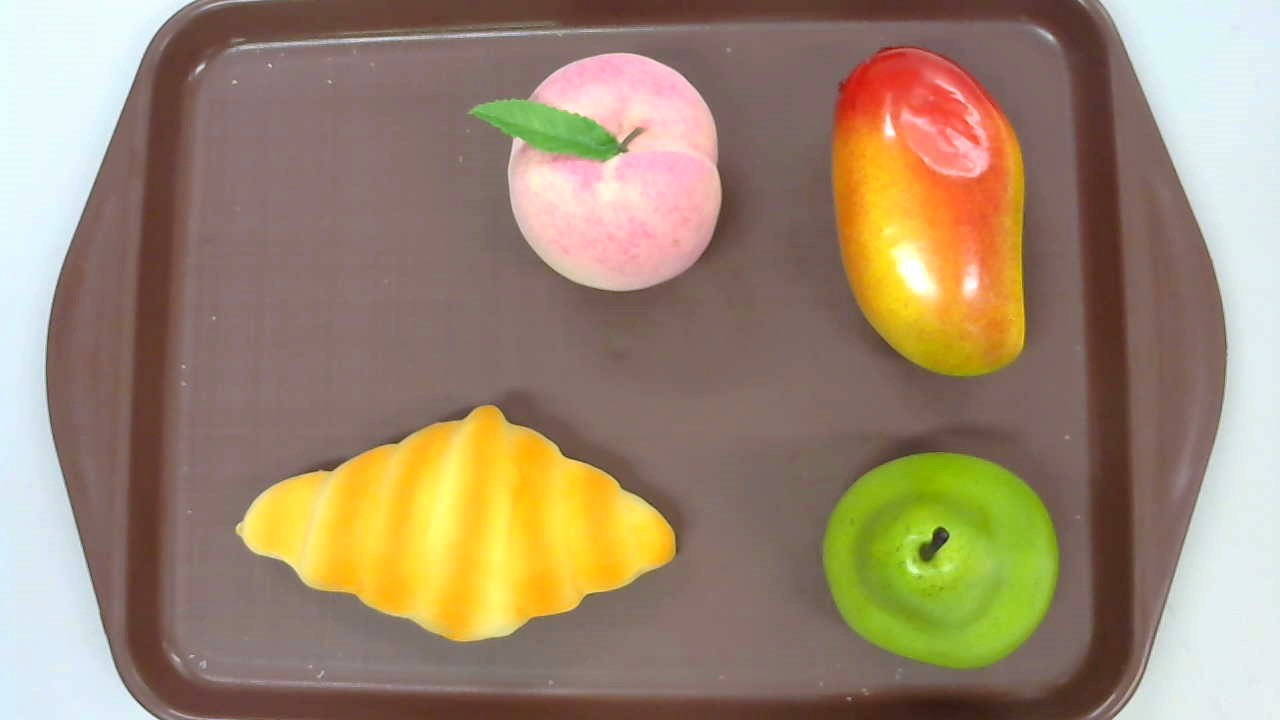croissant: (234, 405, 678, 641)
green pear: (821, 452, 1060, 669)
peach: (467, 53, 724, 294)
red mango: (830, 45, 1027, 377)
